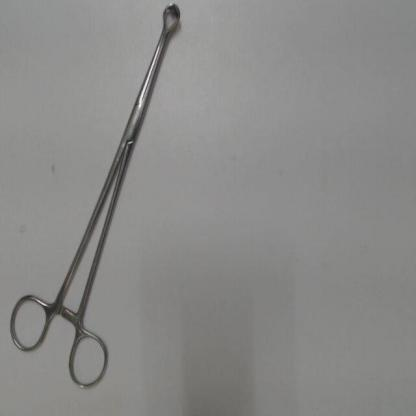8 Babcock Tissue Forceps: (5, 0, 185, 393)
